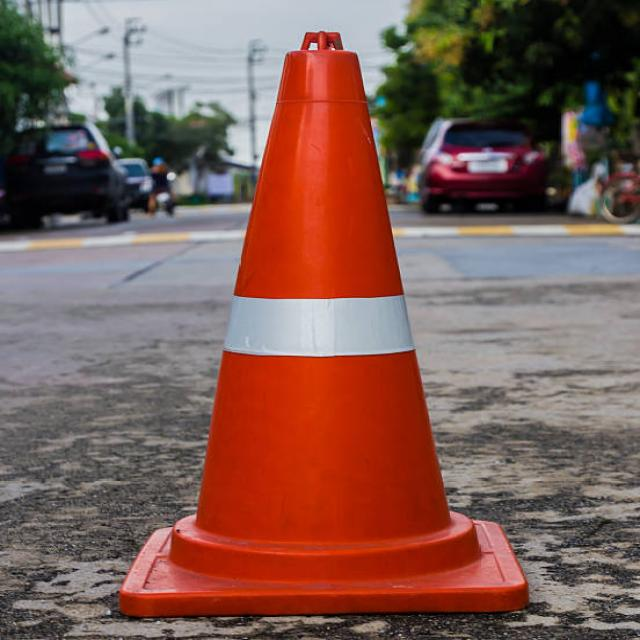Traffic Cone: (108, 8, 537, 632)
